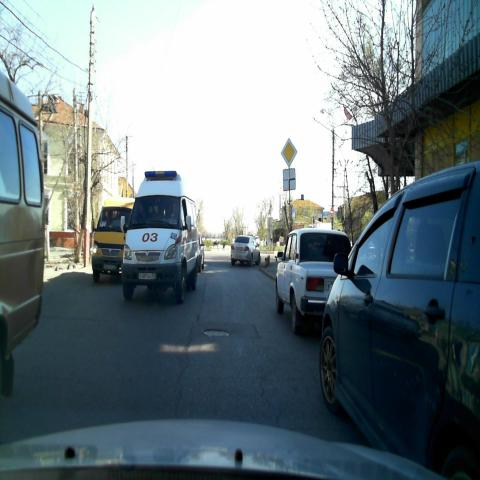8_13: (282, 168, 296, 190)
